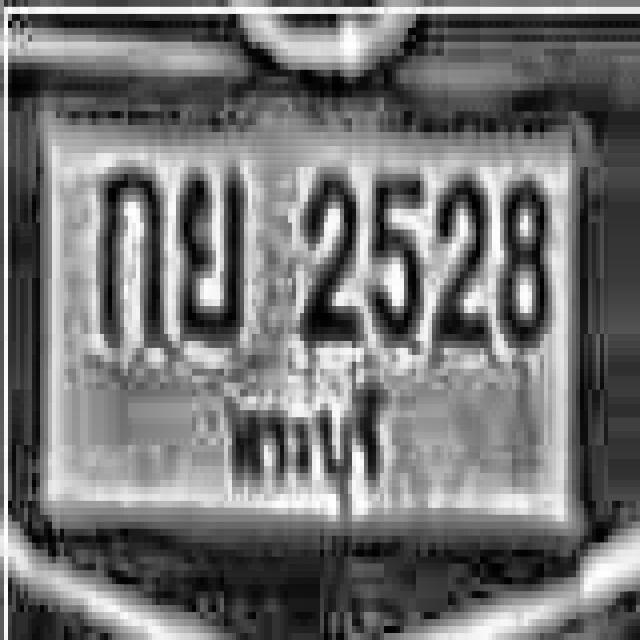license-plate: (24, 93, 605, 576)
